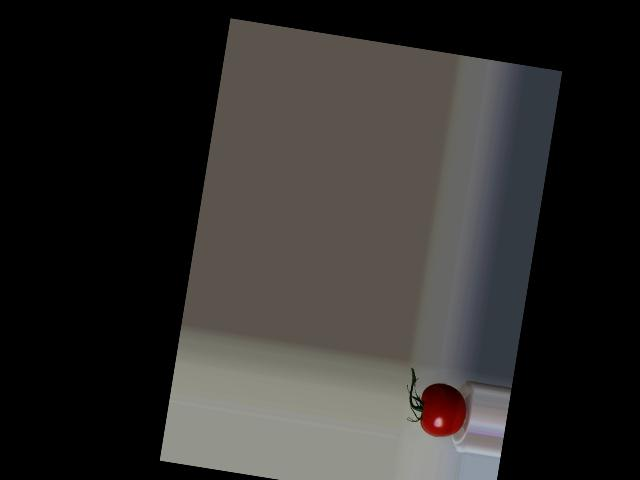tomato: (416, 380, 470, 440)
